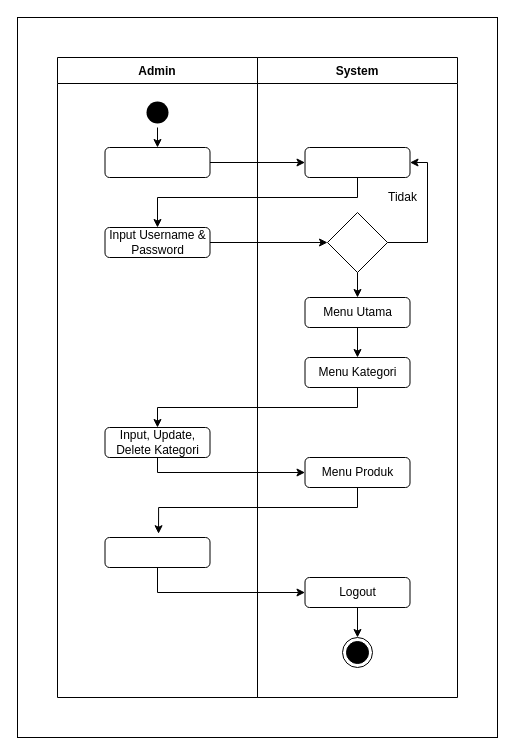
This 515x755 diagram has some shape labels left out. The shapes that lost their labels are listed below. From the top down, each one's centre as x and y in pixels, then its label:
At [157,162]: "Masuk Aplikasi".
At [357,162]: "Tampil Form Login".
At [357,242]: "Benar?".
At [157,552]: "Input, Update, Delete Produk".
